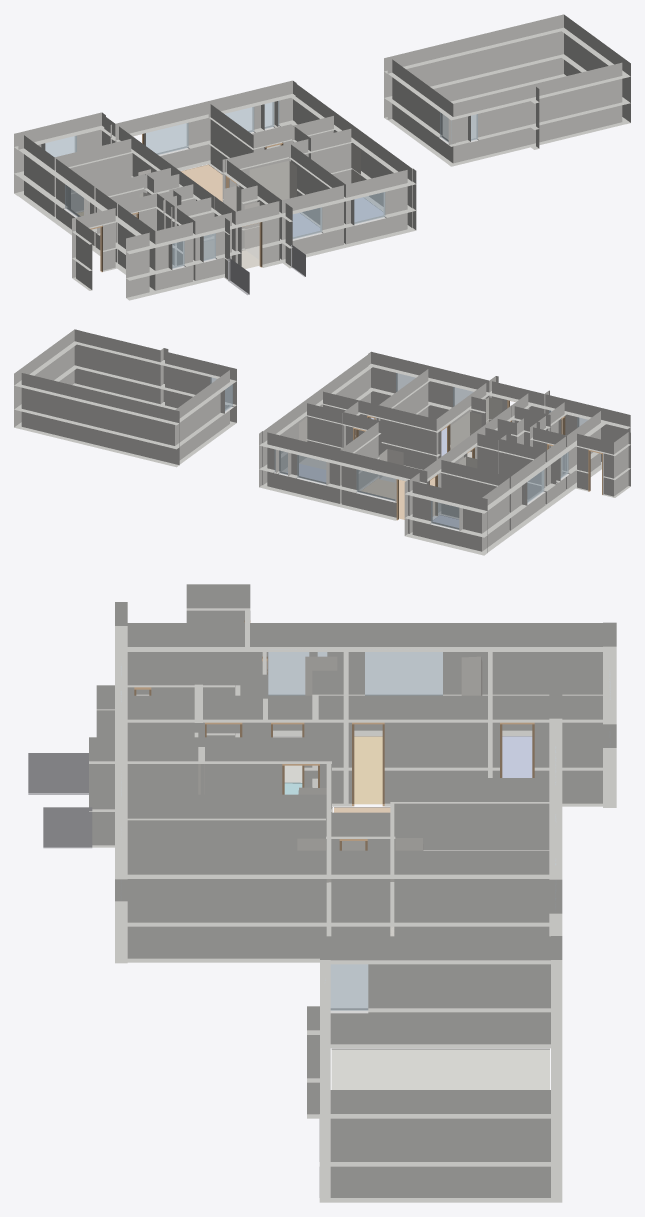
The picture shows the model from 3 angles, top to bottom: view 1: azimuth 30°, elevation 25°; view 2: azimuth 150°, elevation 25°; view 3: azimuth 270°, elevation 25°; orthographic projection. The views are drawn at different scales.
Parts seen in each view (by area): view 1: walls, furniture_6_closet, window_3, railings, floor_2_Living_Room, window_6, window_12, furniture_8_closet, window_2, floor_12_Bed_Room, window_1, window_0 (+1 smaller); view 2: walls, window_3, floor_2_Living_Room, furniture_7_closet, window_1, window_2, furniture_1_closet, window_0, furniture_24_fireplace, floor_5_Bed_Room, furniture_8_closet; view 3: walls, floor_1_Undefined, railings, window_0, floor_6_Kitchen, window_14, window_16, floor_0_Bed_Room, furniture_1_closet, furniture_0_closet.
Part boxes in pixels (x1=…): walls: x1=14, y1=14, x2=630, y2=300; furniture_6_closet: x1=249, y1=161, x2=296, y2=200; window_3: x1=146, y1=123, x2=188, y2=154; railings: x1=228, y1=245, x2=305, y2=295; floor_2_Living_Room: x1=181, y1=164, x2=222, y2=201; window_6: x1=354, y1=192, x2=385, y2=223; window_12: x1=292, y1=207, x2=322, y2=238; furniture_8_closet: x1=244, y1=201, x2=279, y2=262; window_2: x1=45, y1=135, x2=76, y2=156; floor_12_Bed_Room: x1=354, y1=197, x2=383, y2=221; window_1: x1=225, y1=107, x2=254, y2=132; window_0: x1=65, y1=184, x2=83, y2=216; walls: x1=14, y1=329, x2=630, y2=555; window_3: x1=356, y1=469, x2=395, y2=500; floor_2_Living_Room: x1=361, y1=477, x2=434, y2=519; furniture_7_closet: x1=451, y1=411, x2=481, y2=457; window_1: x1=297, y1=455, x2=326, y2=484; window_2: x1=431, y1=501, x2=459, y2=529; furniture_1_closet: x1=299, y1=405, x2=371, y2=469; window_0: x1=524, y1=470, x2=544, y2=504; furniture_24_fireplace: x1=379, y1=449, x2=403, y2=482; floor_5_Bed_Room: x1=286, y1=464, x2=325, y2=482; furniture_8_closet: x1=470, y1=397, x2=502, y2=423; walls: x1=89, y1=584, x2=616, y2=1202; floor_1_Undefined: x1=331, y1=1048, x2=549, y2=1089; railings: x1=28, y1=753, x2=92, y2=848; window_0: x1=365, y1=652, x2=442, y2=695; floor_6_Kitchen: x1=354, y1=736, x2=382, y2=804; window_14: x1=330, y1=964, x2=368, y2=1010; window_16: x1=268, y1=652, x2=309, y2=695; floor_0_Bed_Room: x1=502, y1=736, x2=532, y2=777; furniture_1_closet: x1=297, y1=838, x2=423, y2=936; furniture_0_closet: x1=461, y1=656, x2=482, y2=695.
Bounding box in the file's own units: 27.4 × 2.72 × 13.35.
